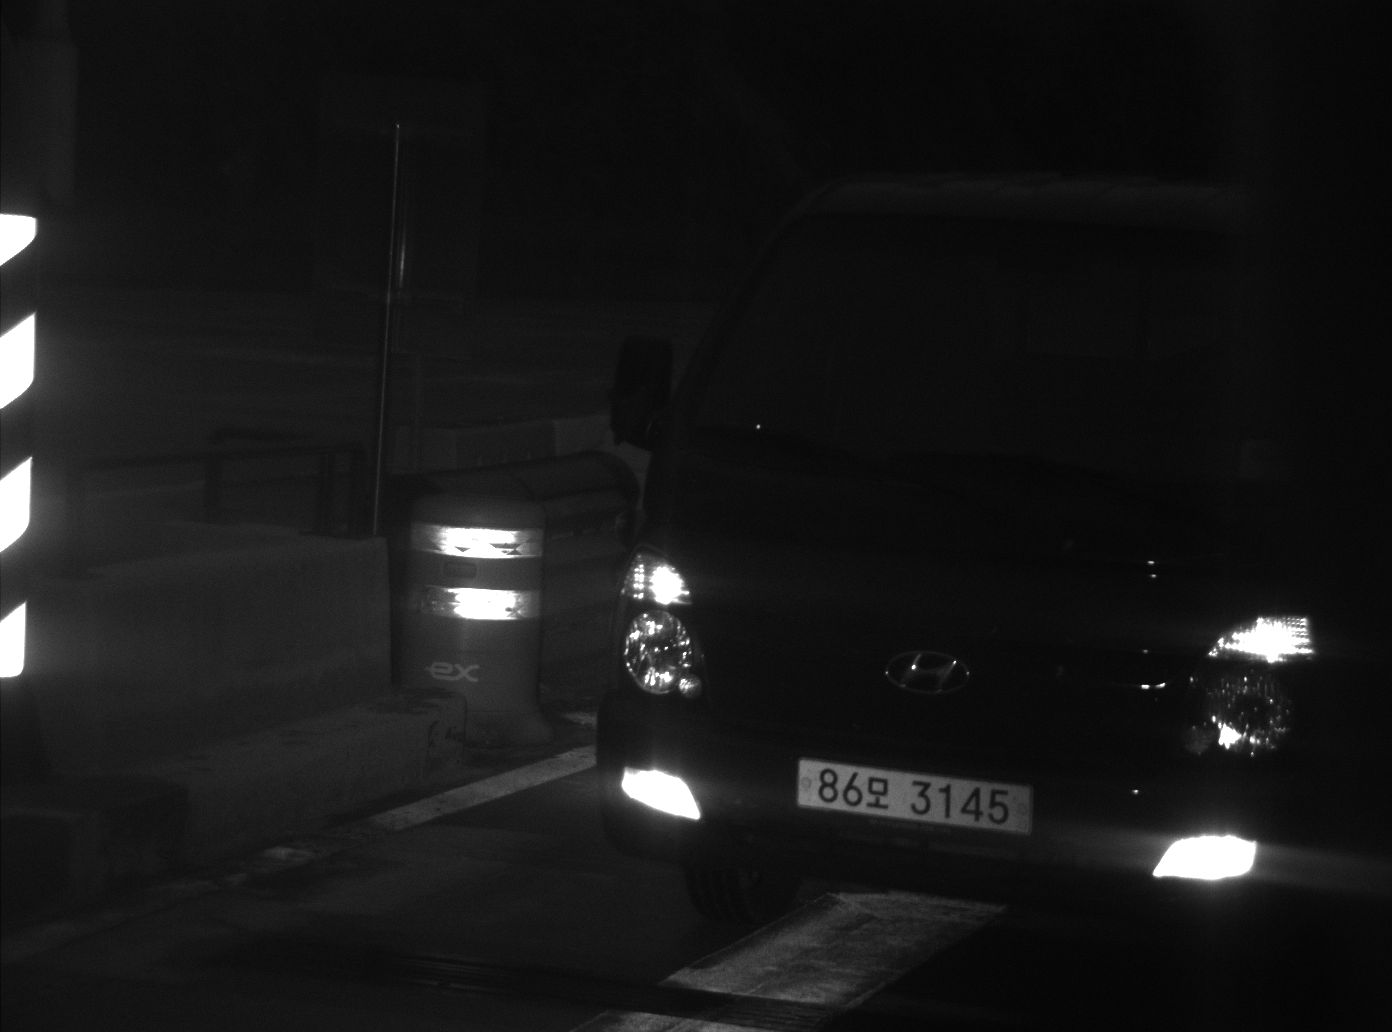car: (605, 211, 1392, 936)
plate: (793, 756, 1036, 836)
